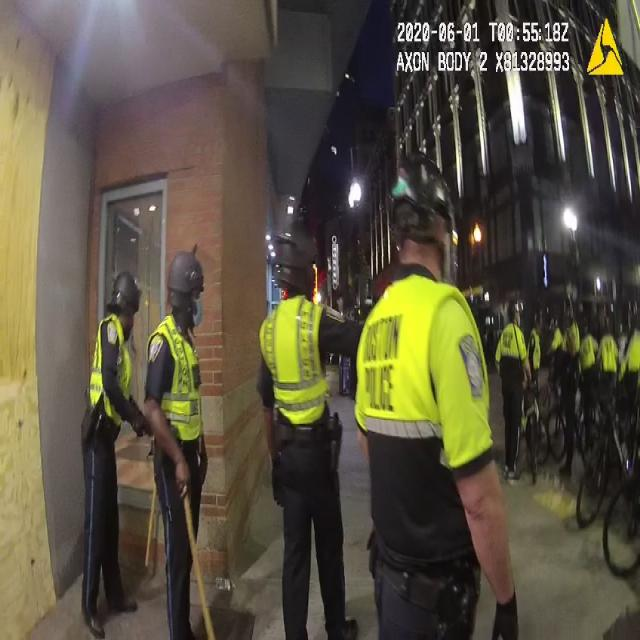cop: (359, 148, 514, 640), (260, 222, 353, 640), (142, 244, 208, 640), (80, 272, 143, 640)
police baton: (172, 480, 222, 640), (140, 469, 159, 574)
